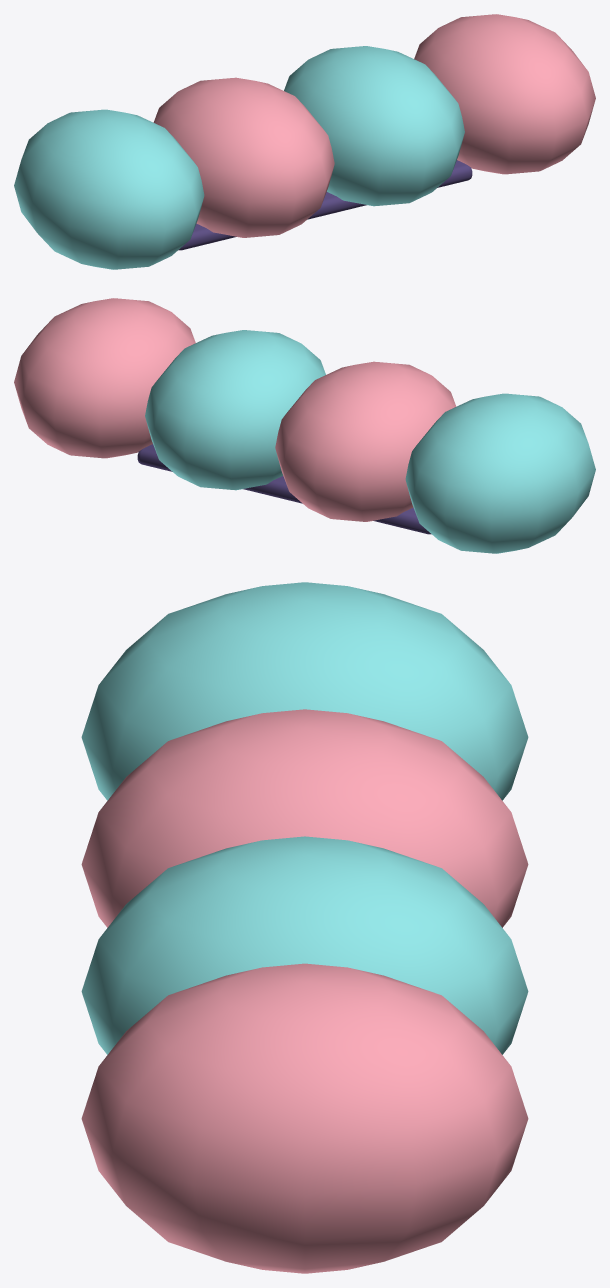
Rendered from soft_barrier.glb.
The picture shows the model from 3 angles, top to bottom: view 1: azimuth 30°, elevation 25°; view 2: azimuth 150°, elevation 25°; view 3: azimuth 270°, elevation 25°; orthographic projection. The views are drawn at different scales.
Visible parts, largest first — view 1: Cushion_0, Cushion_3, Cushion_2, Cushion_1, Foot; view 2: Cushion_0, Cushion_3, Cushion_2, Cushion_1, Foot; view 3: Cushion_3, Cushion_0, Cushion_1, Cushion_2.
Part boxes in pixels (bbox=[...]): Cushion_0: bbox=[14, 109, 204, 269]; Cushion_3: bbox=[414, 14, 595, 174]; Cushion_2: bbox=[284, 46, 464, 206]; Cushion_1: bbox=[153, 77, 334, 237]; Foot: bbox=[178, 160, 472, 250]; Cushion_0: bbox=[405, 393, 595, 553]; Cushion_3: bbox=[14, 298, 195, 458]; Cushion_2: bbox=[145, 330, 325, 490]; Cushion_1: bbox=[275, 361, 456, 521]; Foot: bbox=[137, 444, 431, 534]; Cushion_3: bbox=[81, 963, 528, 1273]; Cushion_0: bbox=[81, 582, 528, 800]; Cushion_1: bbox=[81, 709, 528, 927]; Cushion_2: bbox=[81, 836, 528, 1054].
Size of the model in its own units: 2.94 by 0.7 by 1.04.
